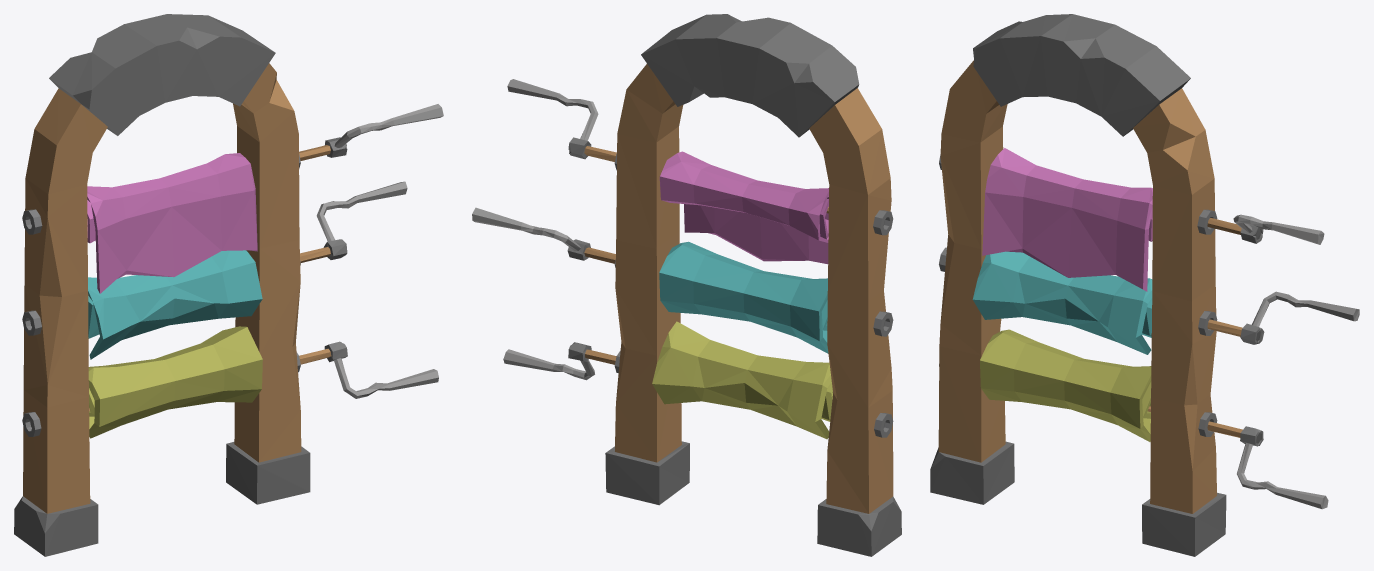
File: SFM_FS_Fabric_Stand_003.fbx
3 renders of one model, left to right at view 1: azimuth 30°, elevation 25°; view 2: azimuth 150°, elevation 25°; view 3: azimuth 330°, elevation 25°, orthographic.
Parts seen in each view (by area): view 1: SFM_FS_Fabric_Stand_003; view 2: SFM_FS_Fabric_Stand_003; view 3: SFM_FS_Fabric_Stand_003.
Part boxes in pixels (bbox=[...]): SFM_FS_Fabric_Stand_003: bbox=[14, 14, 443, 556]; SFM_FS_Fabric_Stand_003: bbox=[472, 14, 901, 556]; SFM_FS_Fabric_Stand_003: bbox=[930, 14, 1359, 556].
Size of the model in its own units: 148 by 174 by 29.36.
